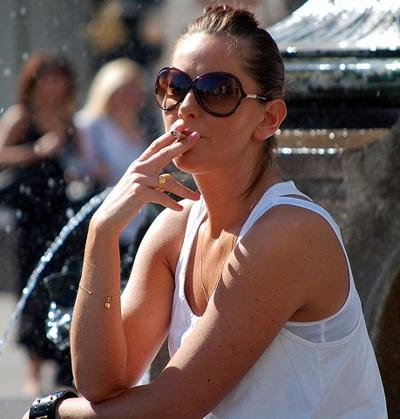person: (23, 6, 389, 419)
